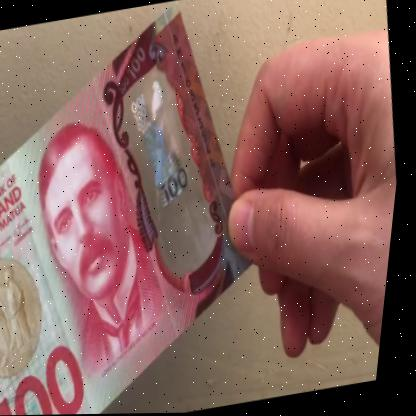100F: (115, 67, 234, 260)
